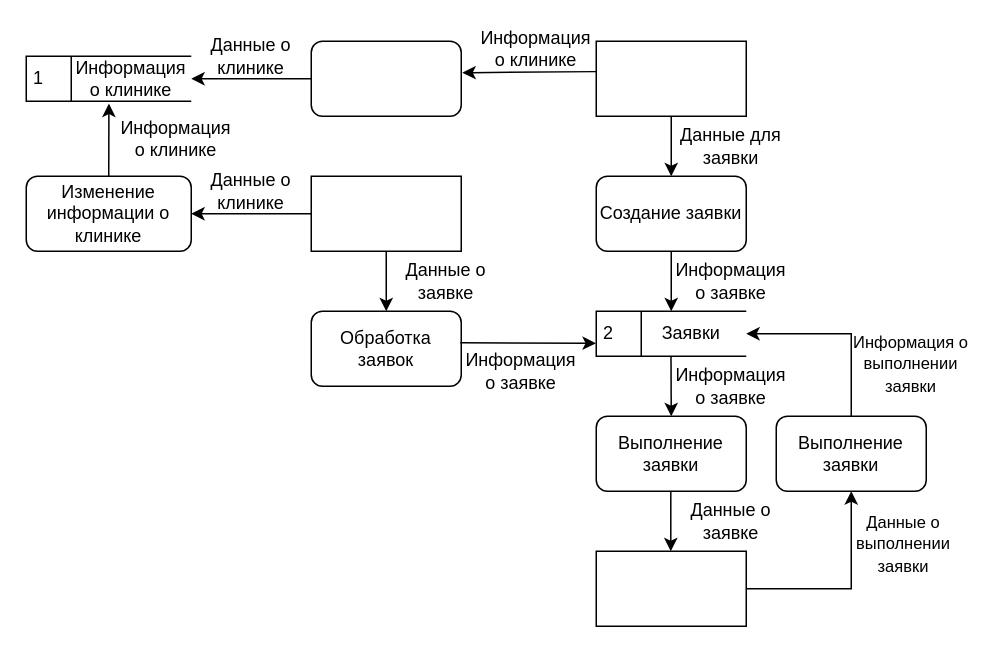
This 998x653 diagram has some shape labels left out. The shapes that lost their labels are listed below. From the top down, each one's centre as x and y in pixels, then its label:
At [385,78]: "Просмотр информации о клинике".
At [670,78]: "Клиент".
At [385,213]: "Администратор".
At [670,588]: "Ветеринар".
